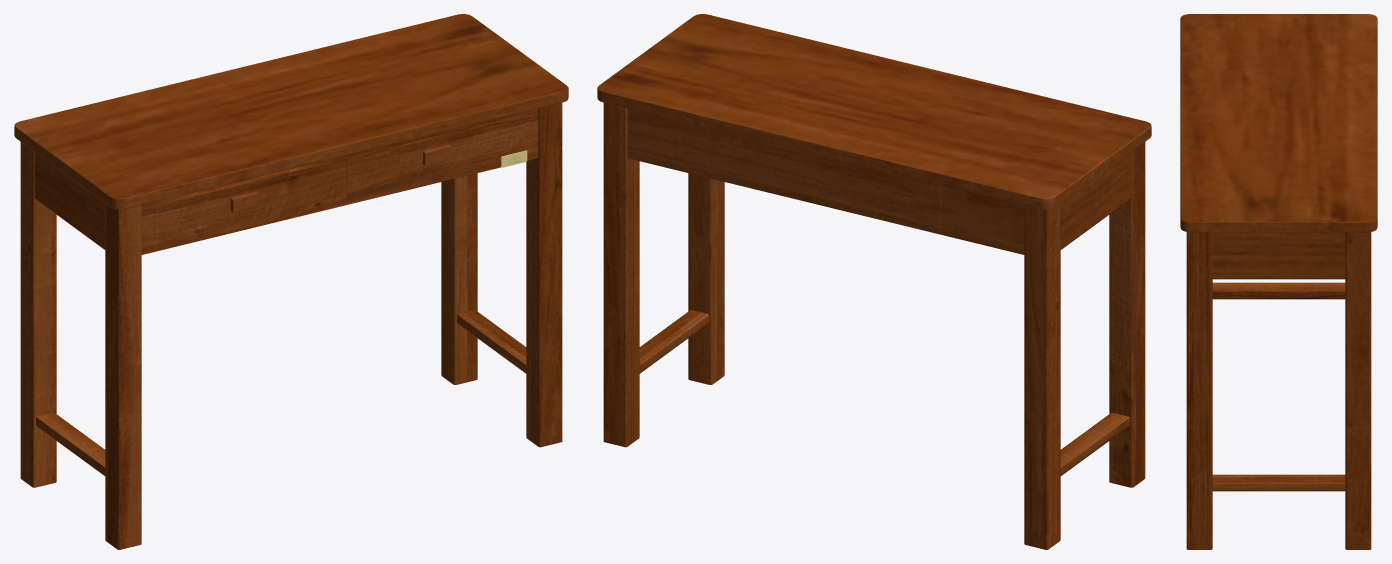
The model's file is MEGA_PACK_Table__table-78393_frame_natural.glb.
The picture shows the model from 3 angles, left to right: view 1: azimuth 30°, elevation 25°; view 2: azimuth 150°, elevation 25°; view 3: azimuth 270°, elevation 25°; orthographic projection. The views are drawn at different scales.
Parts seen in each view (by area): view 1: table-78393_frame_natural; view 2: table-78393_frame_natural; view 3: table-78393_frame_natural.
Boxes of the visible parts, left/top/right/bottom form: table-78393_frame_natural: left=14, top=14, right=568, bottom=549; table-78393_frame_natural: left=597, top=14, right=1151, bottom=549; table-78393_frame_natural: left=1180, top=14, right=1377, bottom=549.
Size of the model in its own units: 1.05 by 0.7777 by 0.42.
Materials: 1 (1 with a texture image).
